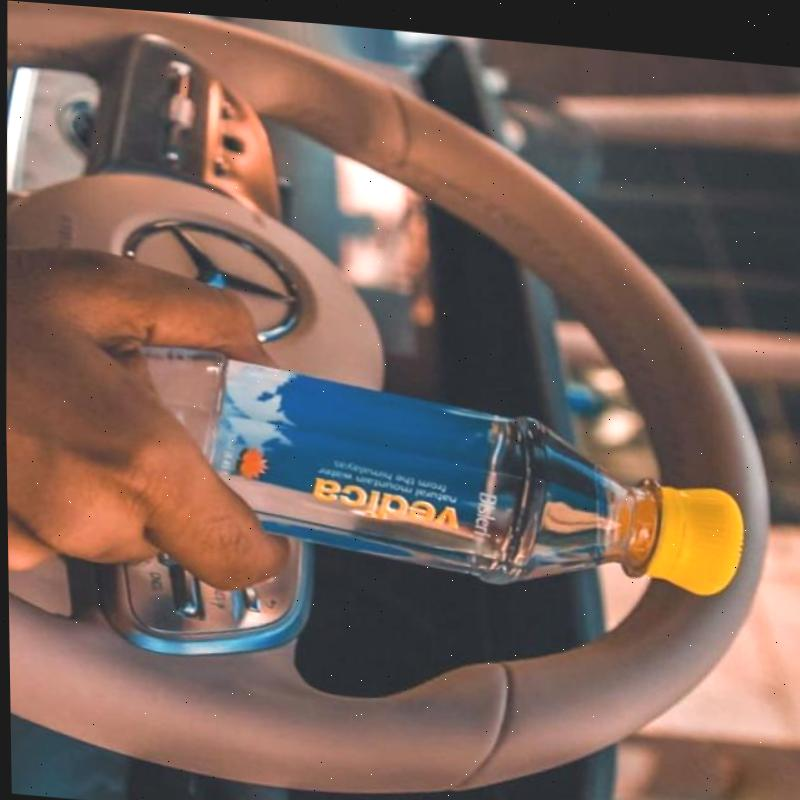botella: (90, 337, 748, 599)
